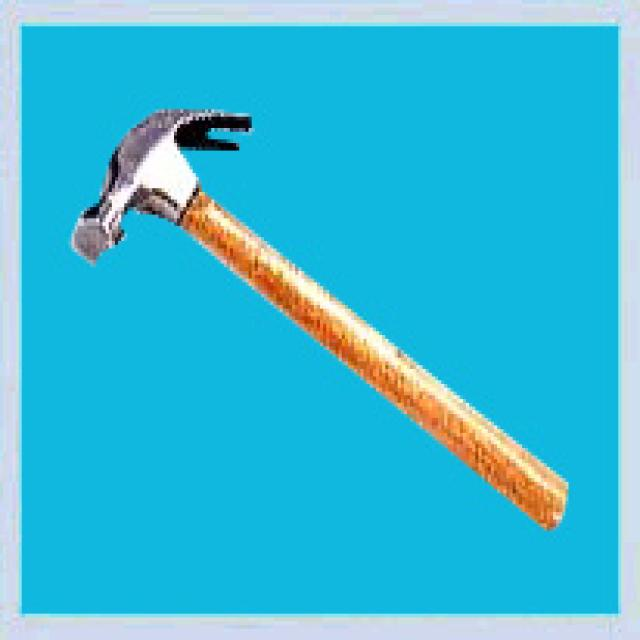hammer: (49, 48, 492, 486)
